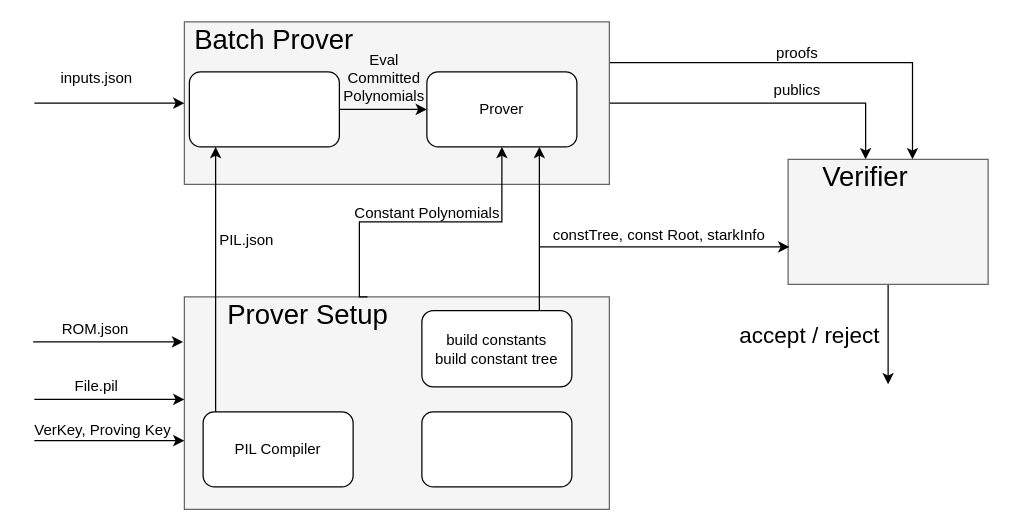
This 1010x531 diagram has some shape labels left out. The shapes that lost their labels are listed below. From the top down, each one's centre as x and y in pixels, then its label:
At point (263, 109): "Executor".
At point (496, 449): "build stark info".
